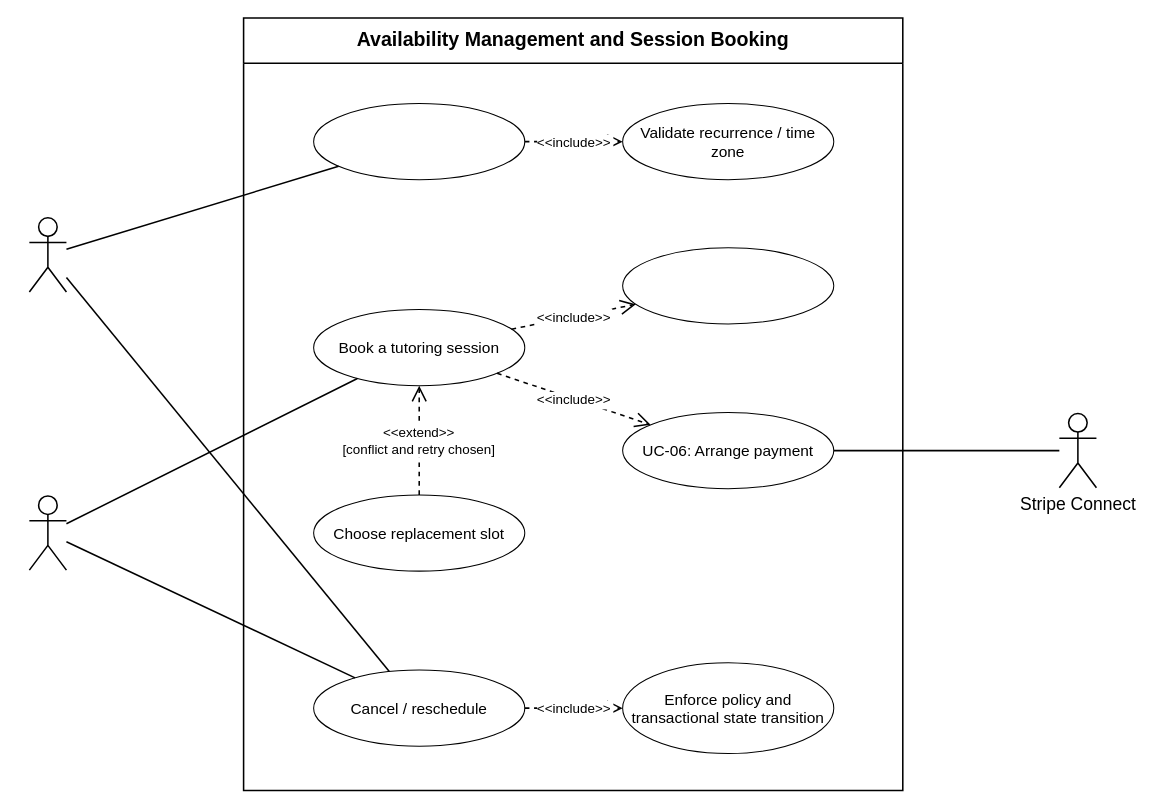
Some shapes in this 1154 by 810 pixel diagram are drawn without their labels. Here are the shapes that lost their labels. From the top down, the centre of each, then its label:
At (x=419, y=141): "Manage availability".
At (x=47, y=254): "Tutor".
At (x=728, y=285): "Authorize / reserve slot atomically".
At (x=47, y=532): "Student".
